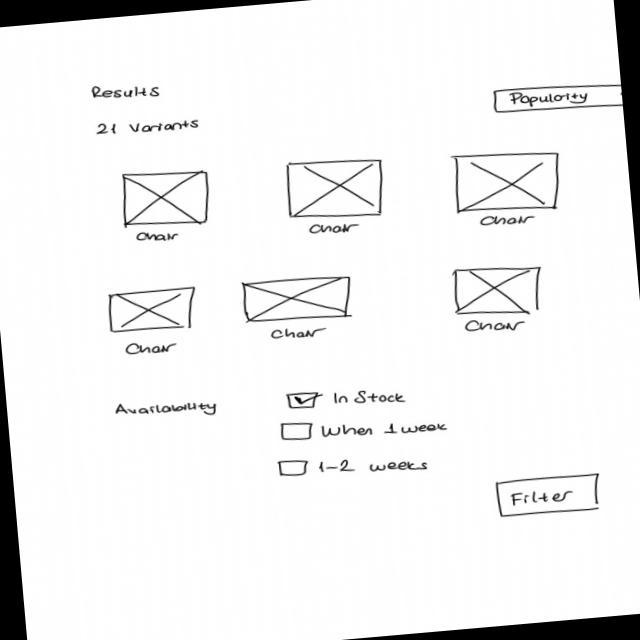button: (494, 471, 605, 519)
checkbox: (280, 408, 451, 450), (275, 447, 431, 485), (286, 382, 411, 416)
image: (450, 145, 567, 218), (282, 154, 390, 225), (116, 165, 213, 232), (240, 273, 357, 328), (451, 262, 546, 321), (107, 286, 200, 335)
label: (112, 393, 223, 426), (93, 114, 203, 140), (88, 80, 164, 105), (459, 315, 528, 336), (121, 337, 186, 357), (268, 323, 329, 342), (479, 211, 538, 229), (309, 219, 364, 237), (134, 229, 184, 245)
select: (489, 78, 624, 118)
